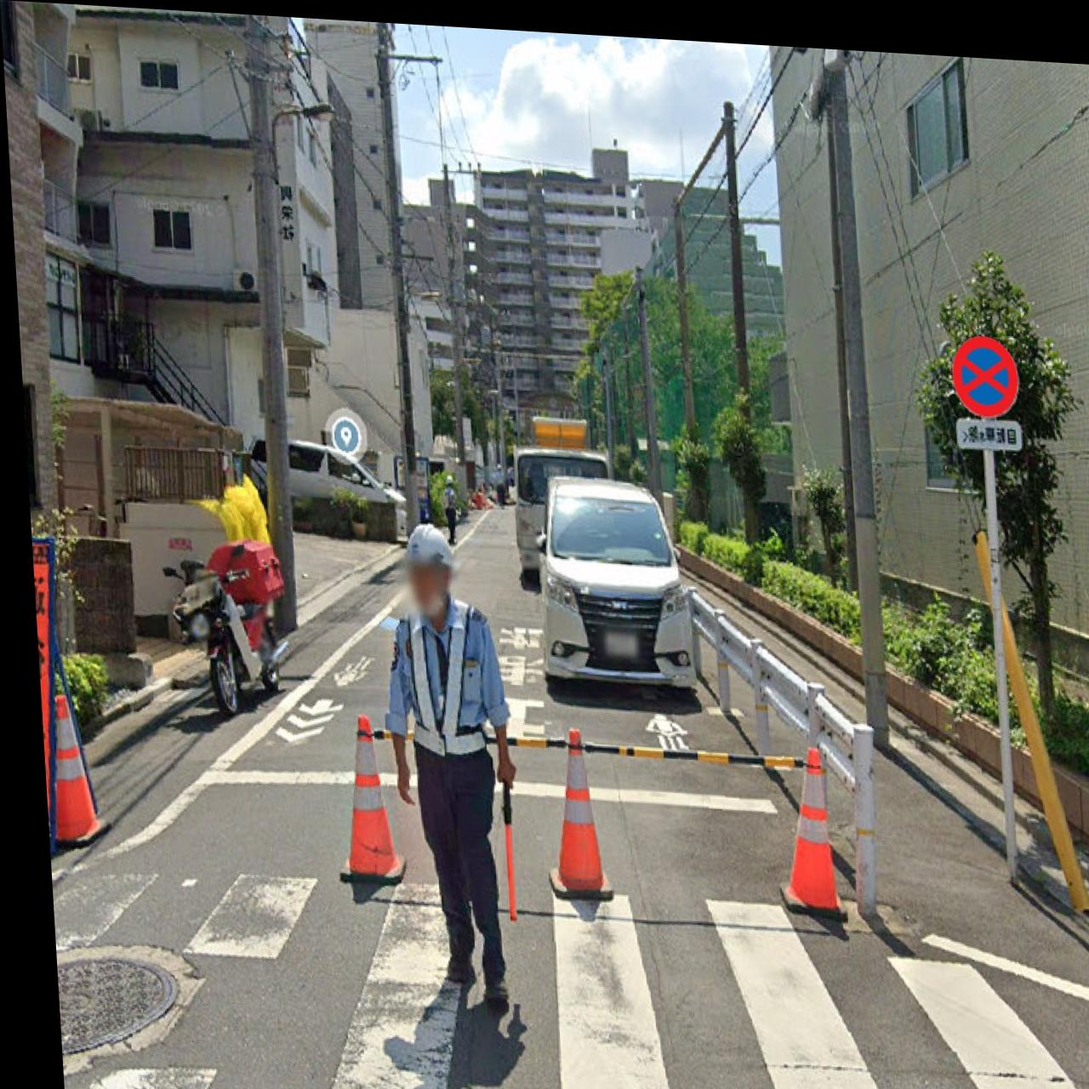stop_sign: (949, 330, 1024, 420)
